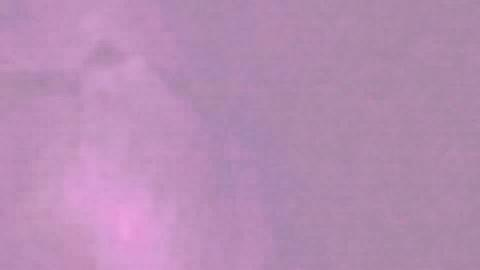tomato: (1, 127, 235, 268), (234, 111, 370, 268), (370, 131, 477, 268)
